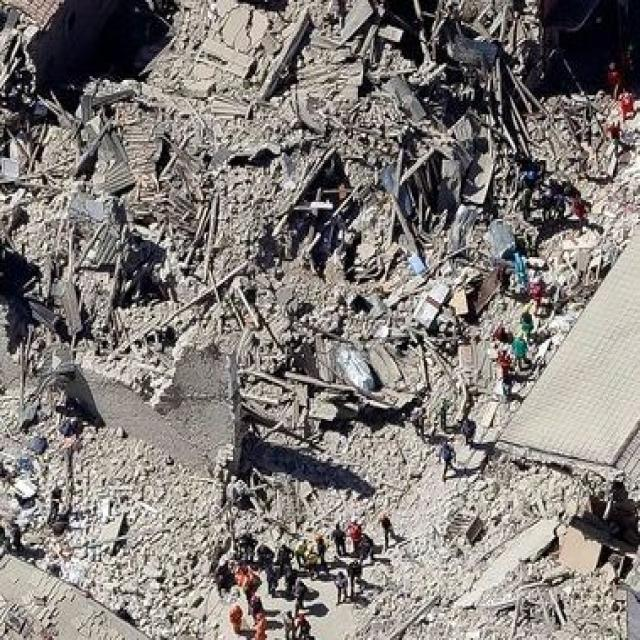collapsed_building: (17, 0, 532, 375)
